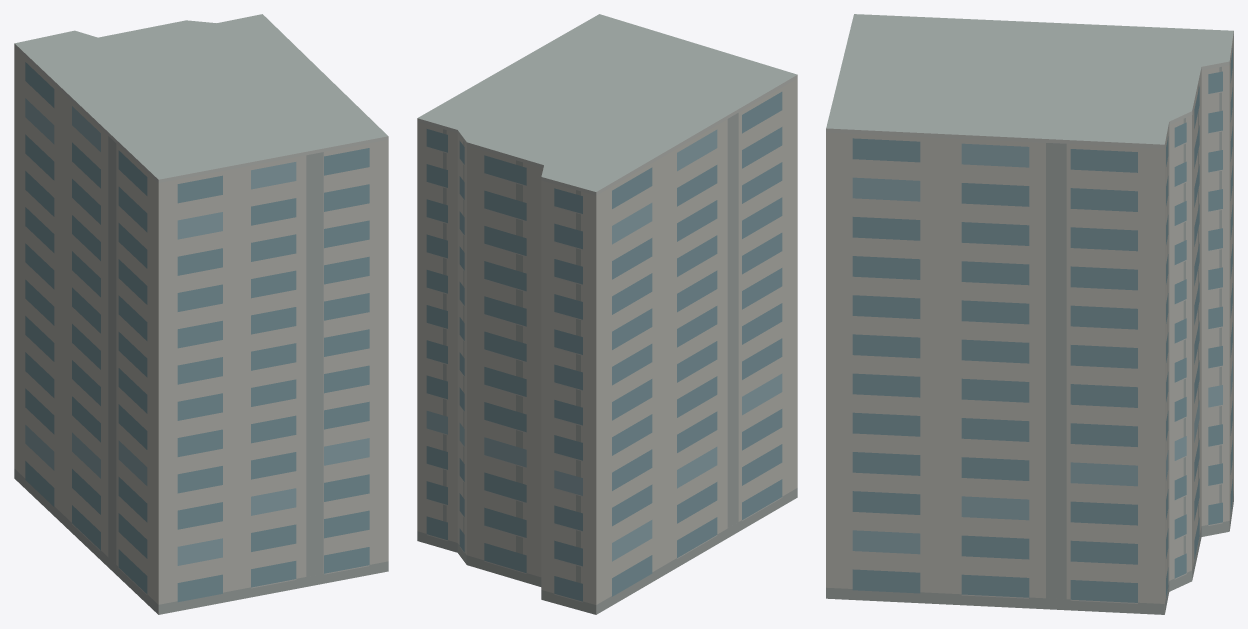
The model's file is residential-67e93712-a9bb-4ce6-94e9-c42d4c07242f.glb.
3 renders of one model, left to right at view 1: azimuth 30°, elevation 25°; view 2: azimuth 150°, elevation 25°; view 3: azimuth 270°, elevation 25°, orthographic. The views are drawn at different scales.
Visible parts, largest first — view 1: residential-67e93712-a9bb-4ce6-94e9-c42d4c07242f.tmp; view 2: residential-67e93712-a9bb-4ce6-94e9-c42d4c07242f.tmp; view 3: residential-67e93712-a9bb-4ce6-94e9-c42d4c07242f.tmp.
Part boxes in pixels (x1,y1,x2,y2): residential-67e93712-a9bb-4ce6-94e9-c42d4c07242f.tmp: (14,14,388,614); residential-67e93712-a9bb-4ce6-94e9-c42d4c07242f.tmp: (417,14,797,614); residential-67e93712-a9bb-4ce6-94e9-c42d4c07242f.tmp: (826,14,1233,614).
Size of the model in its own units: 17.89 by 30 by 23.59.
